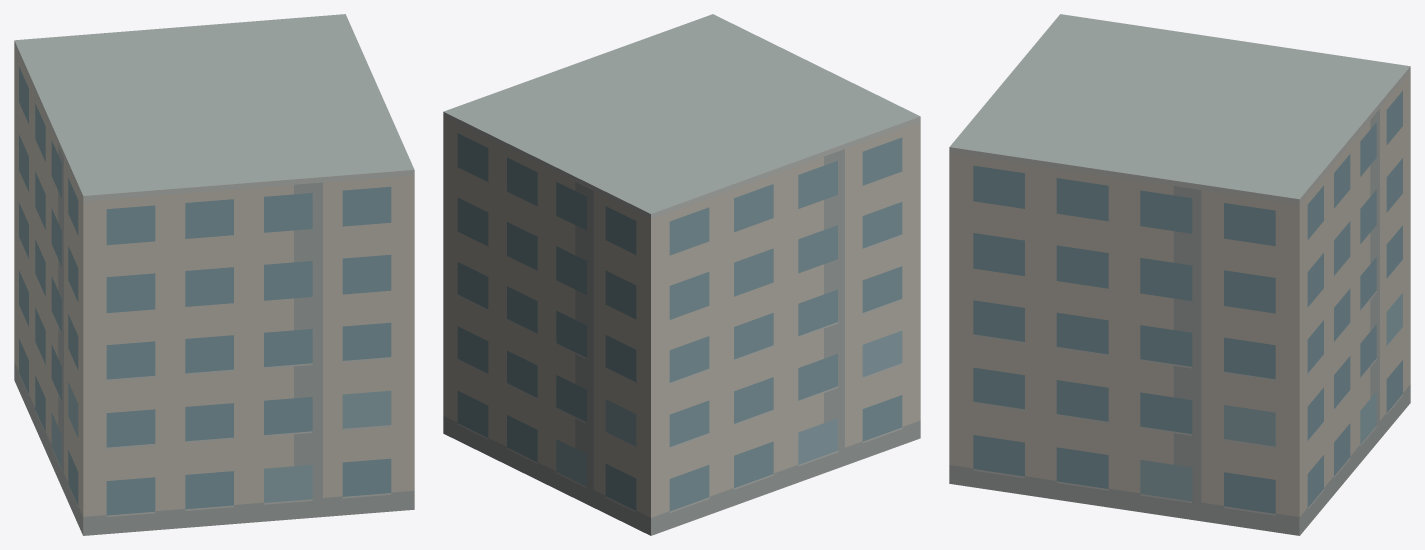
The model's file is residential-5d54b4b9-656a-4963-bd92-c927dab4df2b.glb.
The picture shows the model from 3 angles, left to right: view 1: azimuth 30°, elevation 25°; view 2: azimuth 150°, elevation 25°; view 3: azimuth 270°, elevation 25°; orthographic projection. The views are drawn at different scales.
Visible parts, largest first — view 1: residential-5d54b4b9-656a-4963-bd92-c927dab4df2b.tmp; view 2: residential-5d54b4b9-656a-4963-bd92-c927dab4df2b.tmp; view 3: residential-5d54b4b9-656a-4963-bd92-c927dab4df2b.tmp.
Boxes of the visible parts, x1,y1,x2,y2 form: residential-5d54b4b9-656a-4963-bd92-c927dab4df2b.tmp: (14, 14, 414, 535); residential-5d54b4b9-656a-4963-bd92-c927dab4df2b.tmp: (443, 14, 920, 535); residential-5d54b4b9-656a-4963-bd92-c927dab4df2b.tmp: (949, 14, 1410, 535).
Size of the model in its own units: 18.01 by 15.25 by 18.95.
